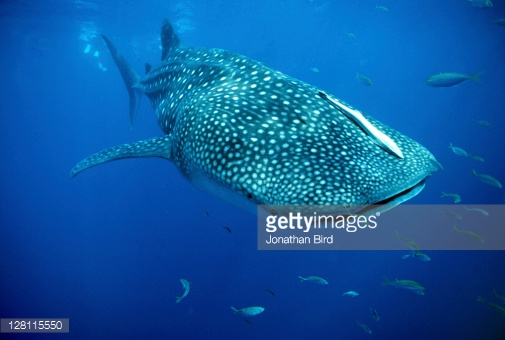Rhincodon_typusw: (54, 22, 463, 241)
